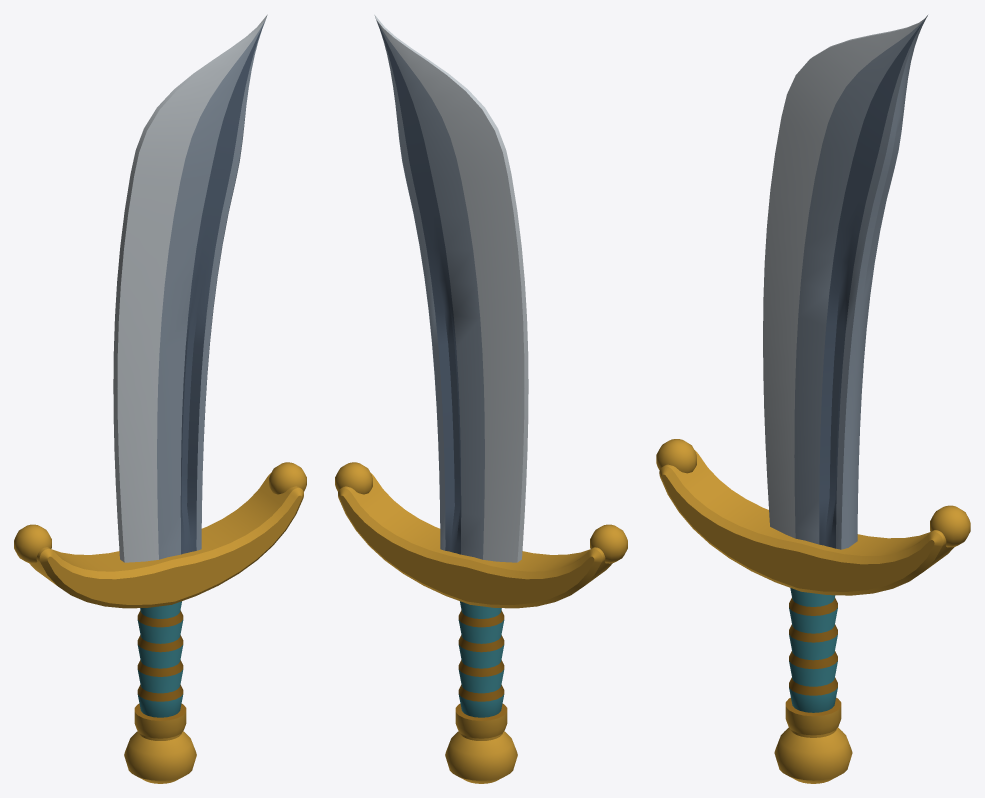
The model's file is Scimitar_09.glb.
3 renders of one model, left to right at view 1: azimuth 30°, elevation 25°; view 2: azimuth 150°, elevation 25°; view 3: azimuth 330°, elevation 25°, orthographic. The views are drawn at different scales.
Parts seen in each view (by area): view 1: Scimitar_09; view 2: Scimitar_09; view 3: Scimitar_09.
Boxes of the visible parts, left/top/right/bottom form: Scimitar_09: left=14, top=14, right=306, bottom=783; Scimitar_09: left=335, top=14, right=627, bottom=783; Scimitar_09: left=656, top=15, right=970, bottom=783.
Size of the model in its own units: 2.55 by 6.24 by 0.56.
